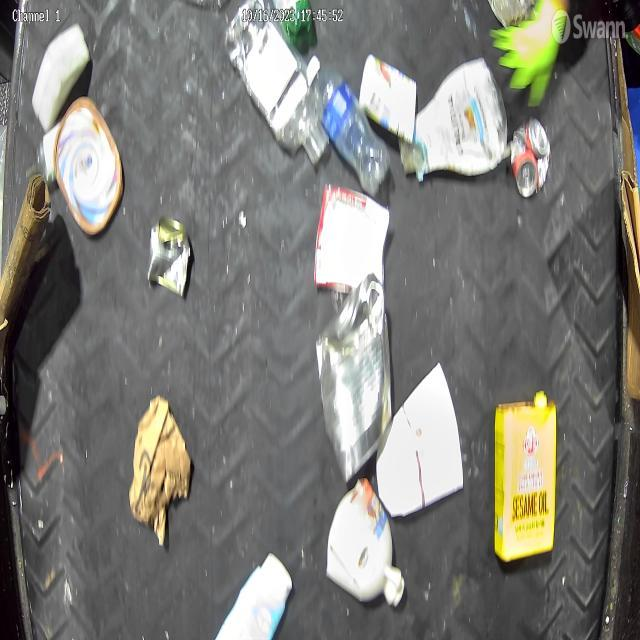can: (316, 286, 396, 464), (148, 212, 190, 298), (510, 118, 550, 198)
non_white_jug: (490, 384, 552, 556)
plastic_bottle: (308, 54, 391, 192)
